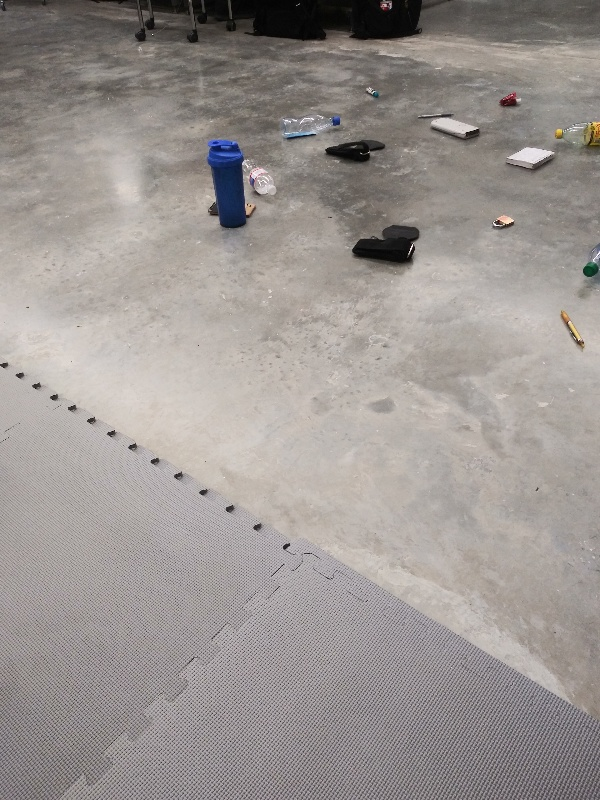bottle: (278, 110, 344, 140), (240, 155, 279, 199), (553, 120, 600, 152), (581, 241, 600, 283)
